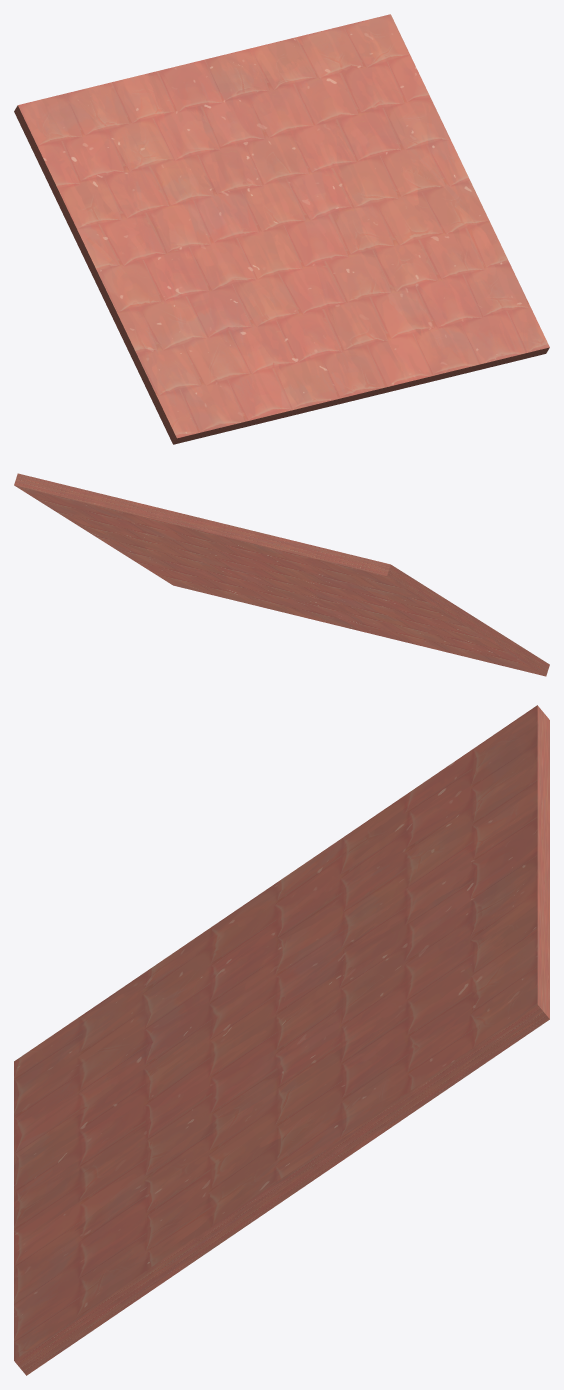
3 views of the same model, one above another, from view 1: azimuth 30°, elevation 25°; view 2: azimuth 150°, elevation 25°; view 3: azimuth 270°, elevation 25° (orthographic). The views are drawn at different scales.
Visible parts, largest first — view 1: Cube_12; view 2: Cube_12; view 3: Cube_12.
Boxes of the visible parts, x1=… form: Cube_12: x1=14, y1=14, x2=549, y2=444; Cube_12: x1=14, y1=473, x2=549, y2=676; Cube_12: x1=14, y1=705, x2=549, y2=1375.
Bounding box in the file's own units: 553 × 320 × 419.
